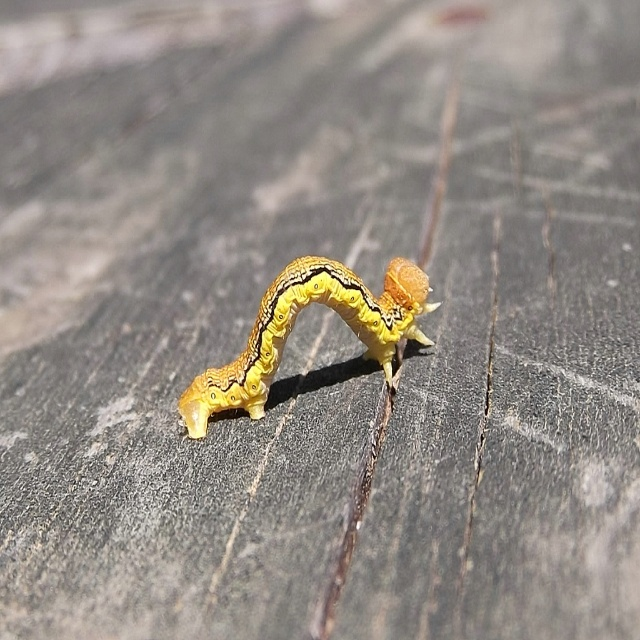Caterpillar: (175, 259, 446, 441)
